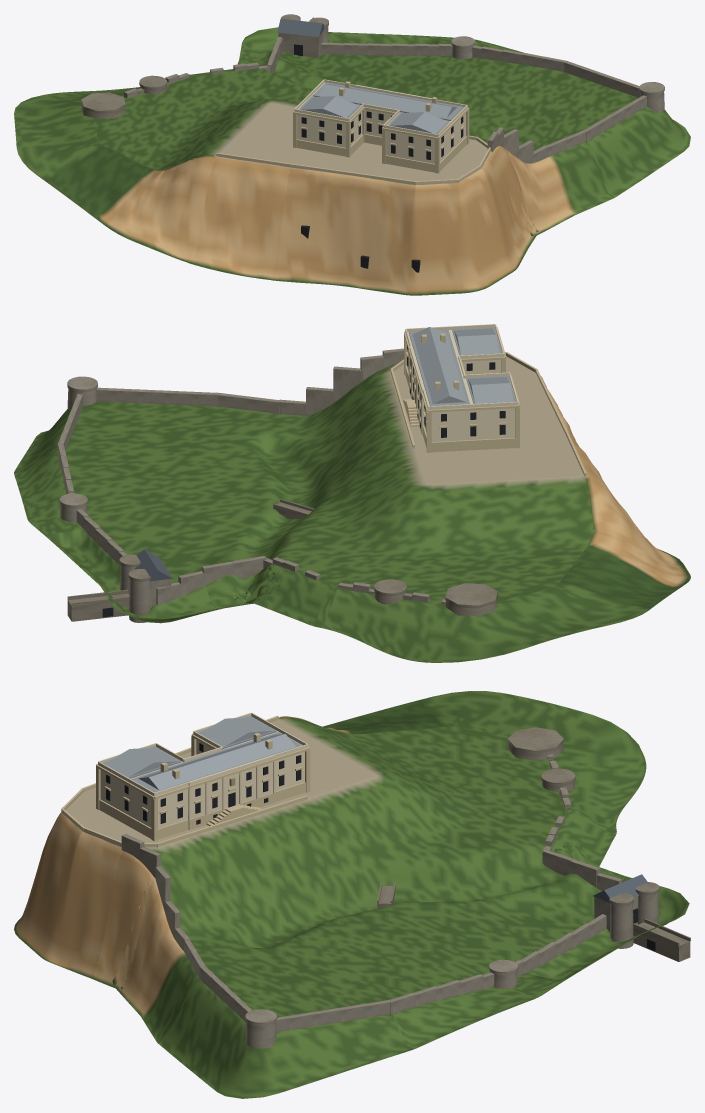
The model's file is nottingham-castle-b60.glb.
3 views of the same model, one above another, from view 1: azimuth 30°, elevation 25°; view 2: azimuth 150°, elevation 25°; view 3: azimuth 270°, elevation 25° (orthographic). The views are drawn at different scales.
Bounding box in the file's own units: 25.6 × 5.92 × 20.96.
Materials: 9 (2 with a texture image).
